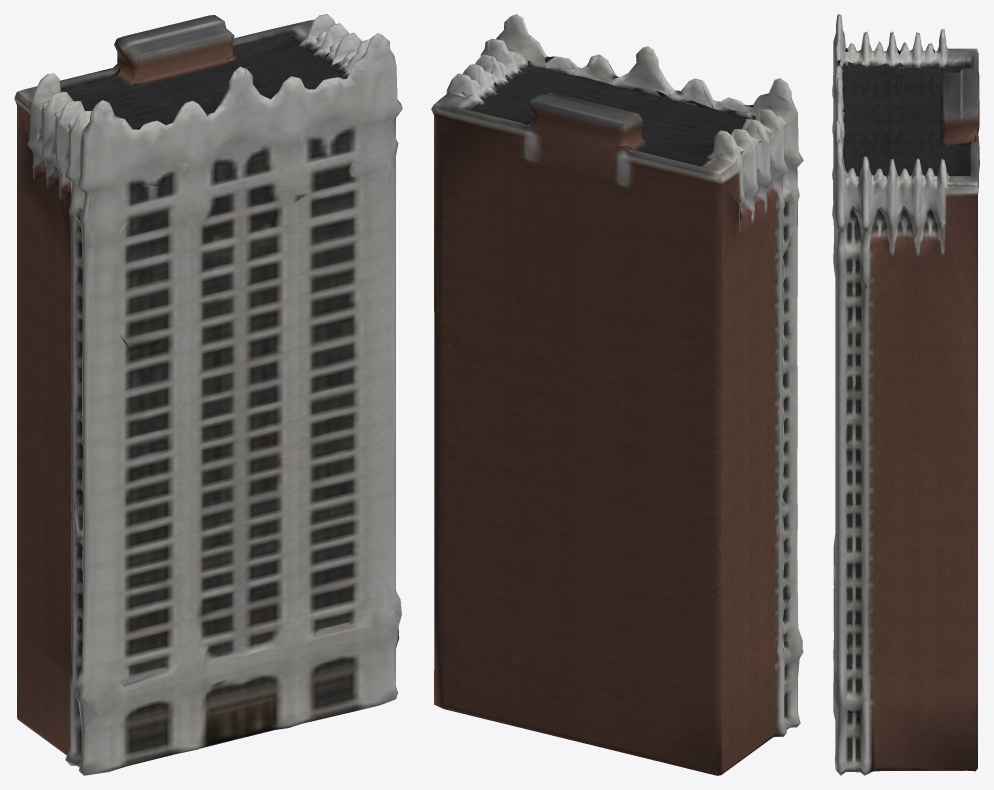
The model's file is century_building.glb.
The picture shows the model from 3 angles, left to right: view 1: azimuth 30°, elevation 25°; view 2: azimuth 150°, elevation 25°; view 3: azimuth 270°, elevation 25°; orthographic projection. The views are drawn at different scales.
Visible parts, largest first — view 1: century_building; view 2: century_building; view 3: century_building.
Part boxes in pixels (x1=…): century_building: x1=14, y1=14, x2=402, y2=775; century_building: x1=431, y1=14, x2=803, y2=775; century_building: x1=832, y1=14, x2=979, y2=775.
Bounding box in the file's own units: 31 × 61 × 13.
Materials: 1 (1 with a texture image).
